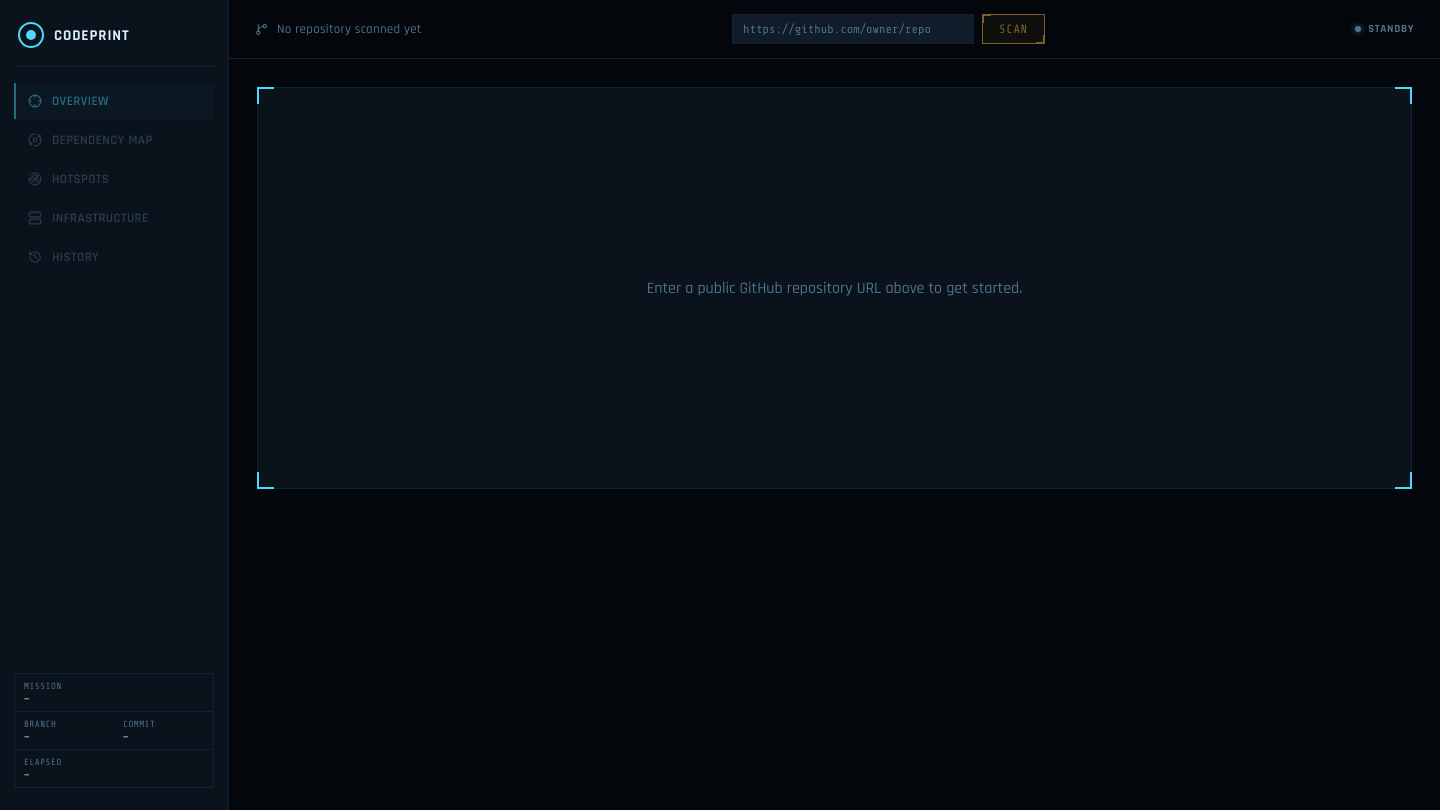
Test: CodebaseDashboard › shows an error message when the initial POST is rejected
The image size is (1440, 810).
In the field named "GitHub repository URL": (853, 29) [732,14,974,44], type "https://example.com/owner/repo"
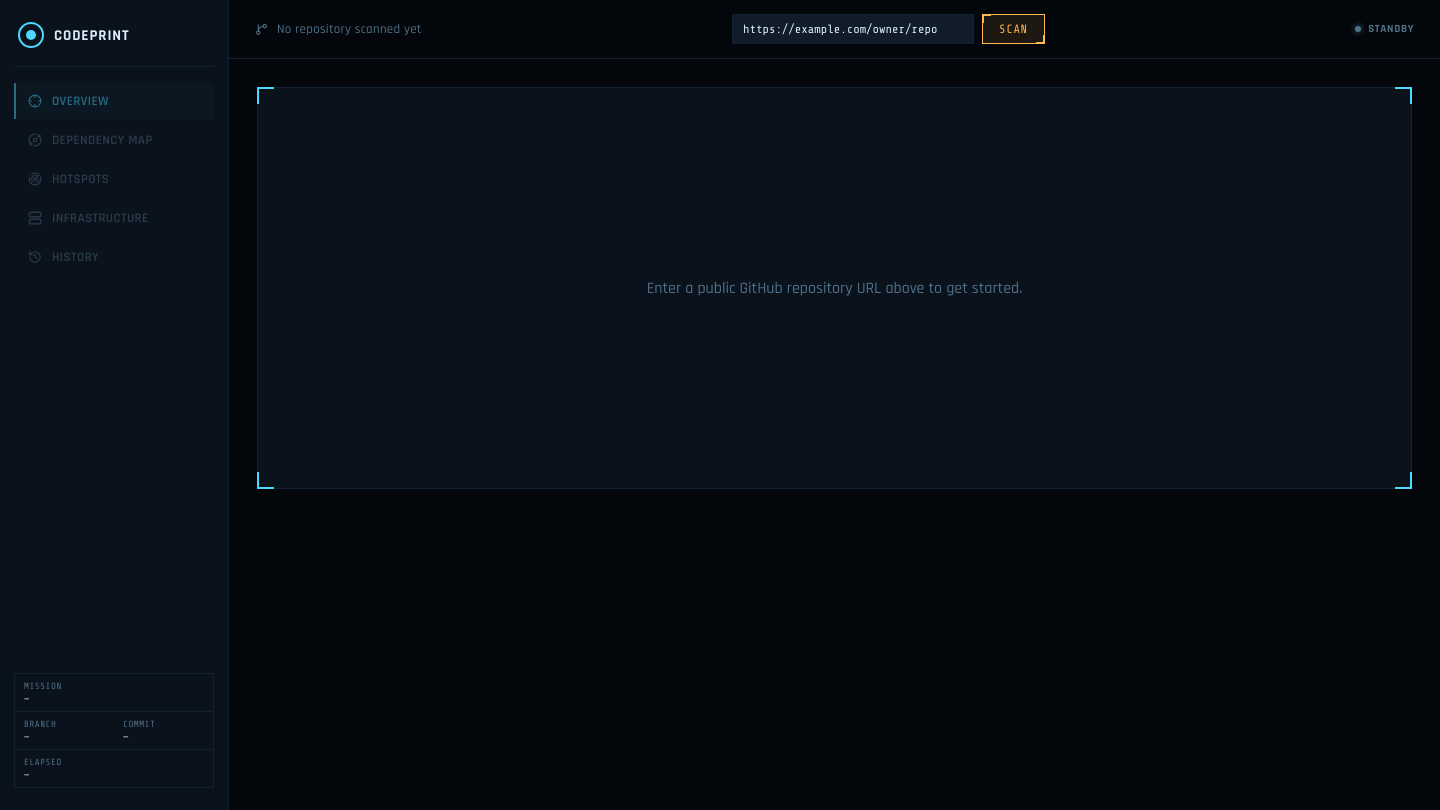
Click the button "Scan": (1013, 29) [982,14,1045,44]
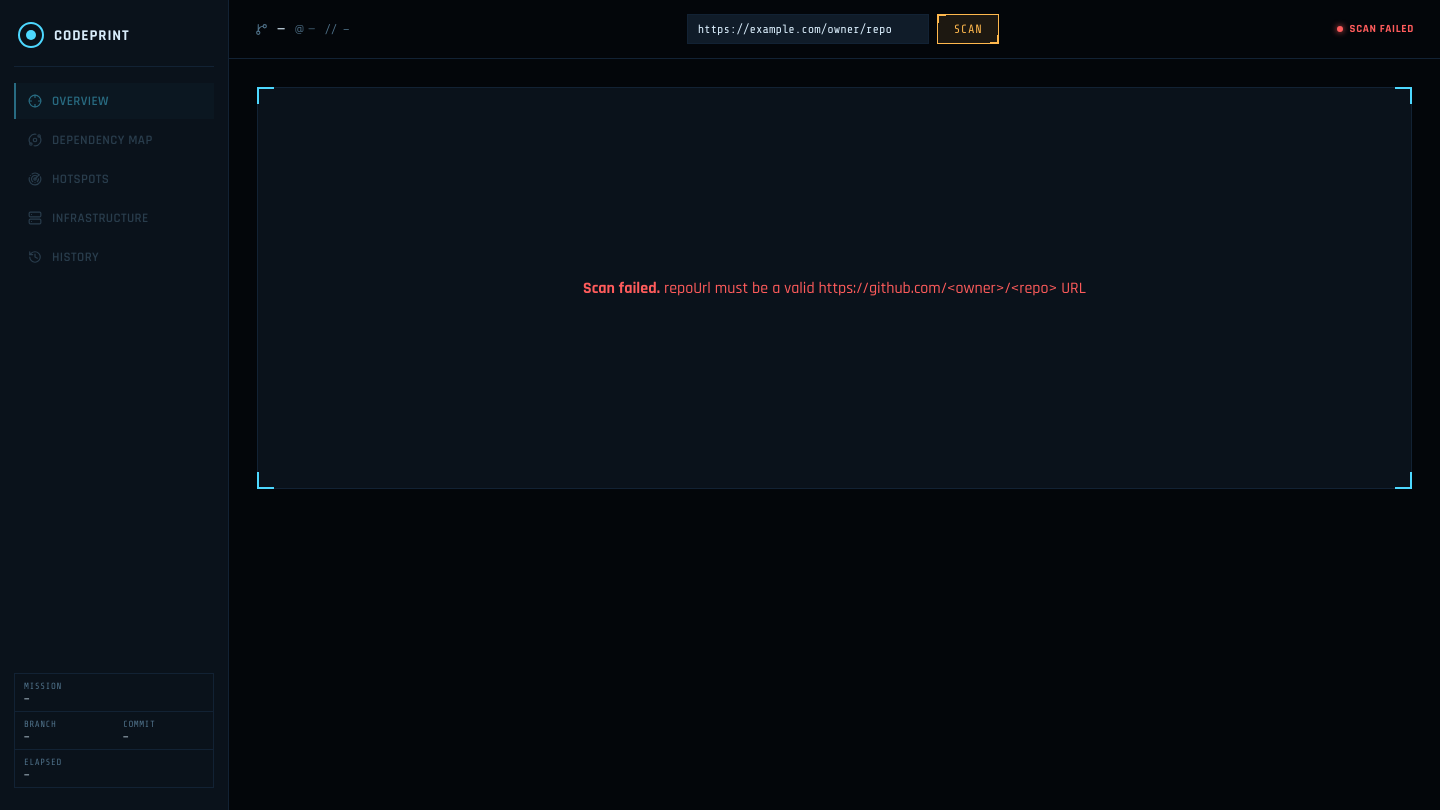
expect the message shows "repoUrl must be a valid": met, box [664,278,1086,298]
